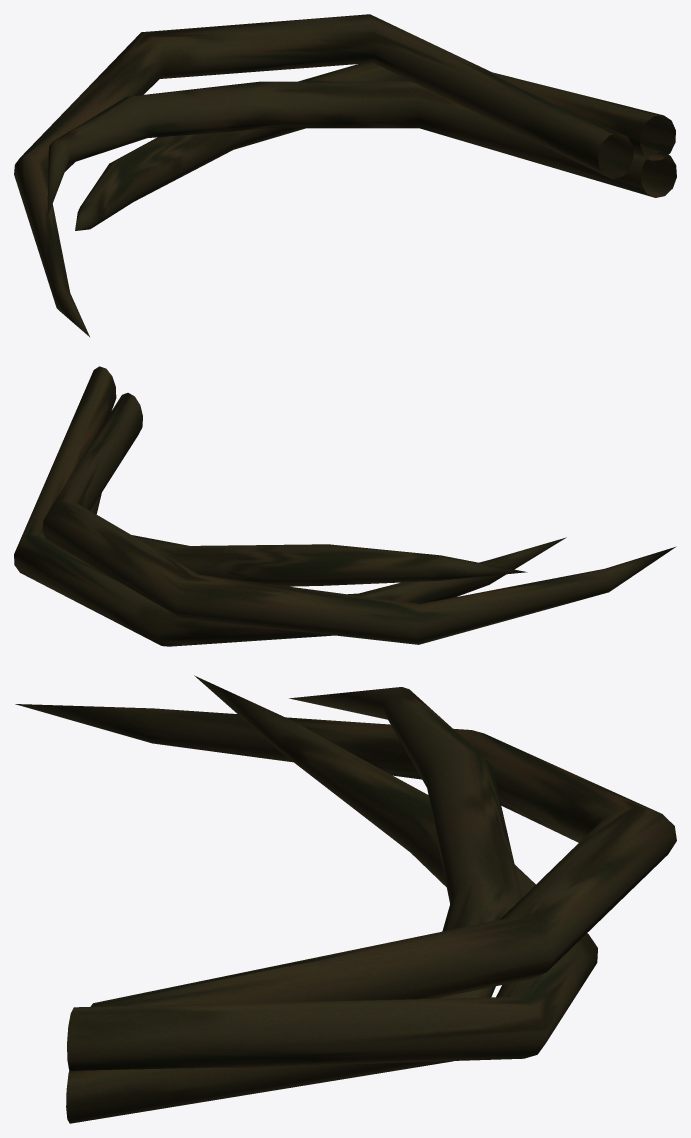
File: raiz_ascensor.fbx
The picture shows the model from 3 angles, top to bottom: view 1: azimuth 30°, elevation 25°; view 2: azimuth 150°, elevation 25°; view 3: azimuth 270°, elevation 25°; orthographic projection. The views are drawn at different scales.
Parts seen in each view (by area): view 1: pCylinder206, pCylinder207, pCylinder205; view 2: pCylinder206, pCylinder205, pCylinder207; view 3: pCylinder206, pCylinder205, pCylinder207.
Boxes of the visible parts, x1=… form: pCylinder206: x1=14, y1=14, x2=633, y2=336; pCylinder207: x1=47, y1=81, x2=676, y2=216; pCylinder205: x1=75, y1=63, x2=675, y2=230; pCylinder206: x1=42, y1=393, x2=676, y2=644; pCylinder205: x1=14, y1=366, x2=566, y2=646; pCylinder207: x1=90, y1=493, x2=527, y2=586; pCylinder206: x1=15, y1=704, x2=676, y2=1006; pCylinder205: x1=67, y1=675, x2=597, y2=1070; pCylinder207: x1=66, y1=687, x2=522, y2=1123.
Size of the model in its own units: 9.07 by 1.57 by 6.33.
